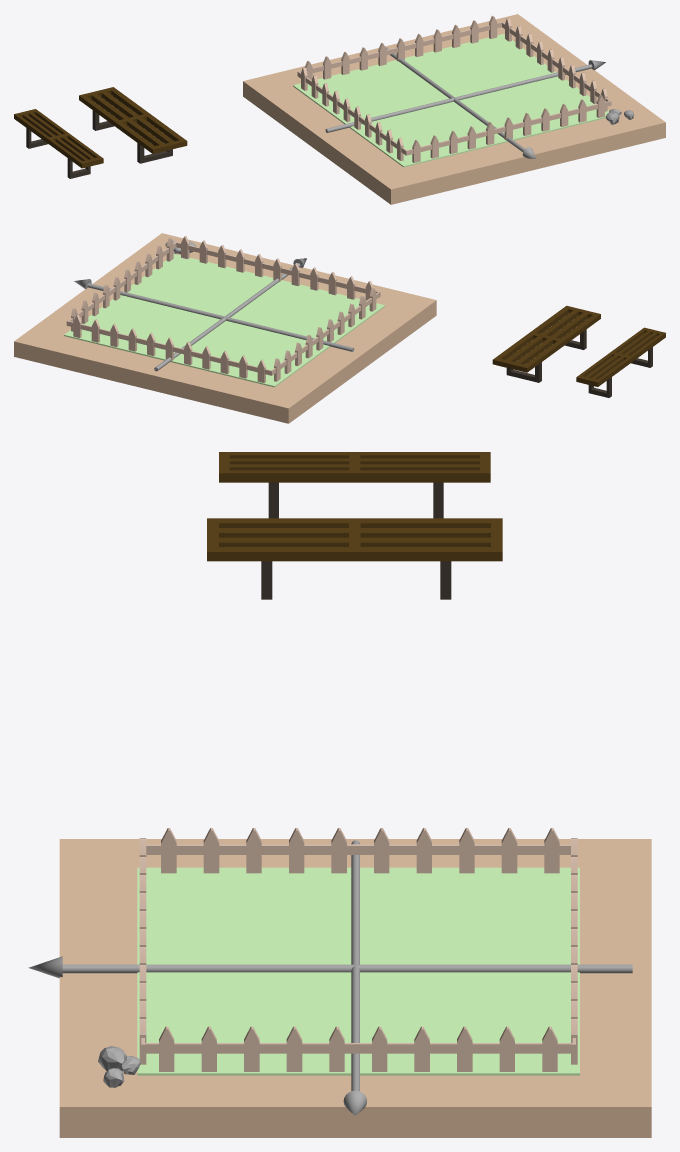
Rendered from garden update.fbx.
The picture shows the model from 3 angles, top to bottom: view 1: azimuth 30°, elevation 25°; view 2: azimuth 150°, elevation 25°; view 3: azimuth 270°, elevation 25°; orthographic projection. The views are drawn at different scales.
Visible parts, largest first — view 1: pCube1, pCube4, pasted__pCube27, pCube17, pCube18, pasted__pCylinder32, pCylinder32; view 2: pCube1, pCube4, pasted__pCube27, pCube17, pCube18, pasted__pCylinder32, pCylinder32; view 3: pCube4, pCube1, pasted__pCube27, pCube17, pCube18, pCylinder32, pasted__pCylinder32.
Boxes of the visible parts, left/top/right/bottom form: pCube1: left=243, top=14, right=665, bottom=204; pCube4: left=293, top=34, right=609, bottom=167; pasted__pCube27: left=297, top=15, right=611, bottom=162; pCube17: left=79, top=87, right=187, bottom=163; pCube18: left=14, top=109, right=103, bottom=178; pasted__pCylinder32: left=325, top=64, right=592, bottom=132; pCylinder32: left=385, top=47, right=524, bottom=152; pCube1: left=14, top=233, right=436, bottom=423; pCube4: left=64, top=254, right=385, bottom=387; pasted__pCube27: left=66, top=236, right=380, bottom=382; pCube17: left=492, top=305, right=600, bottom=382; pCube18: left=576, top=327, right=665, bottom=397; pasted__pCylinder32: left=87, top=283, right=354, bottom=351; pCylinder32: left=154, top=263, right=300, bottom=371; pCube4: left=137, top=867, right=579, bottom=1075; pCube1: left=59, top=839, right=651, bottom=1137; pasted__pCube27: left=139, top=828, right=577, bottom=1071; pCube17: left=207, top=518, right=502, bottom=599; pCube18: left=219, top=452, right=490, bottom=518; pCylinder32: left=62, top=964, right=632, bottom=973; pasted__pCylinder32: left=351, top=840, right=359, bottom=1091.
Size of the model in its own units: 45.41 by 6.02 by 21.97.
